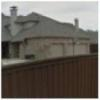chimneys: (9, 5, 20, 36), (74, 16, 80, 32)
